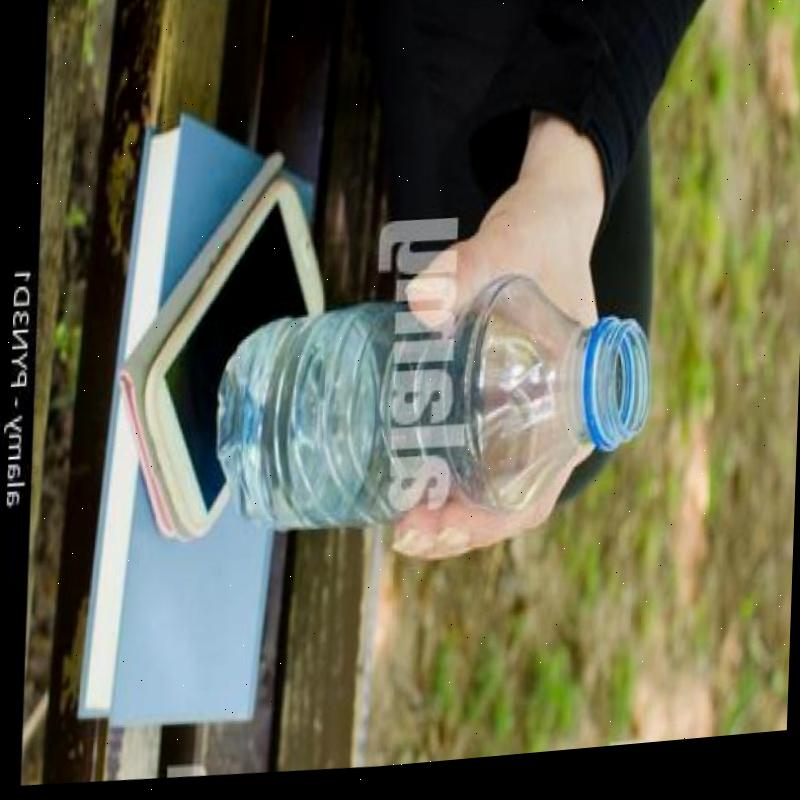botella: (199, 258, 654, 555)
